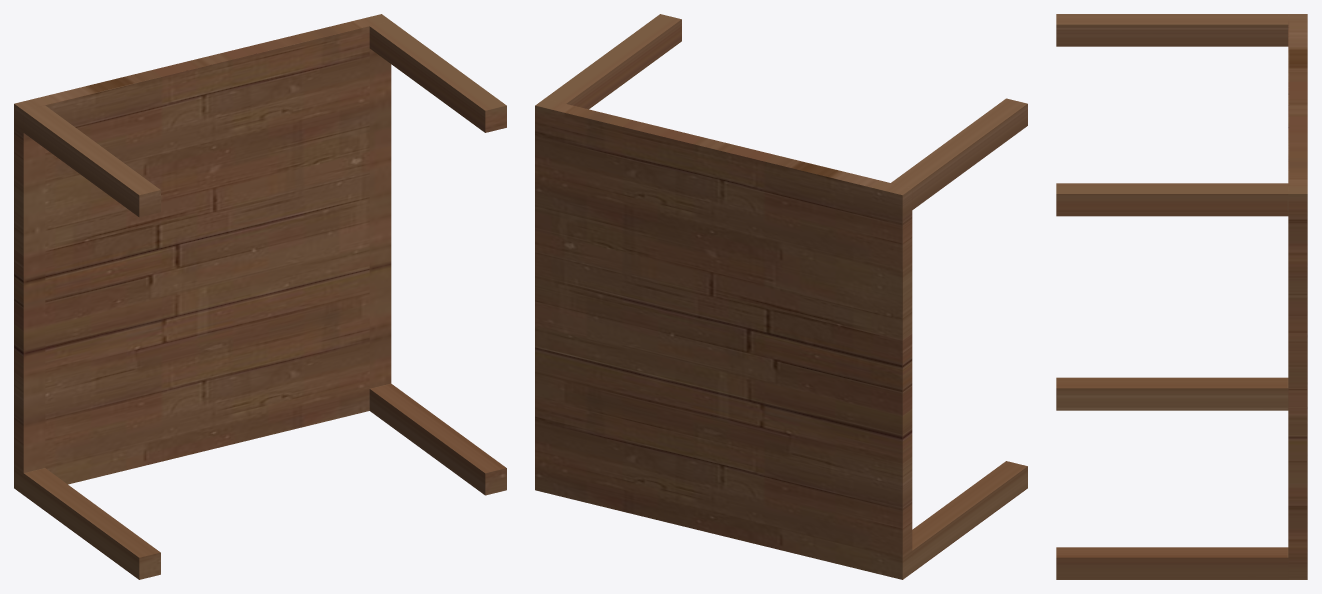
The model's file is store-wood-table.obj.
3 views of the same model, side by side, from view 1: azimuth 30°, elevation 25°; view 2: azimuth 150°, elevation 25°; view 3: azimuth 270°, elevation 25° (orthographic).
Visible parts, largest first — view 1: store-wood-table_Circle.023; view 2: store-wood-table_Circle.023; view 3: store-wood-table_Circle.023.
Part boxes in pixels (box(x1,y1,x2,y2)): store-wood-table_Circle.023: box(14, 14, 506, 579); store-wood-table_Circle.023: box(535, 14, 1027, 579); store-wood-table_Circle.023: box(1056, 14, 1307, 579).
Size of the model in its own units: 1.37 by 1.37 by 0.8103.
